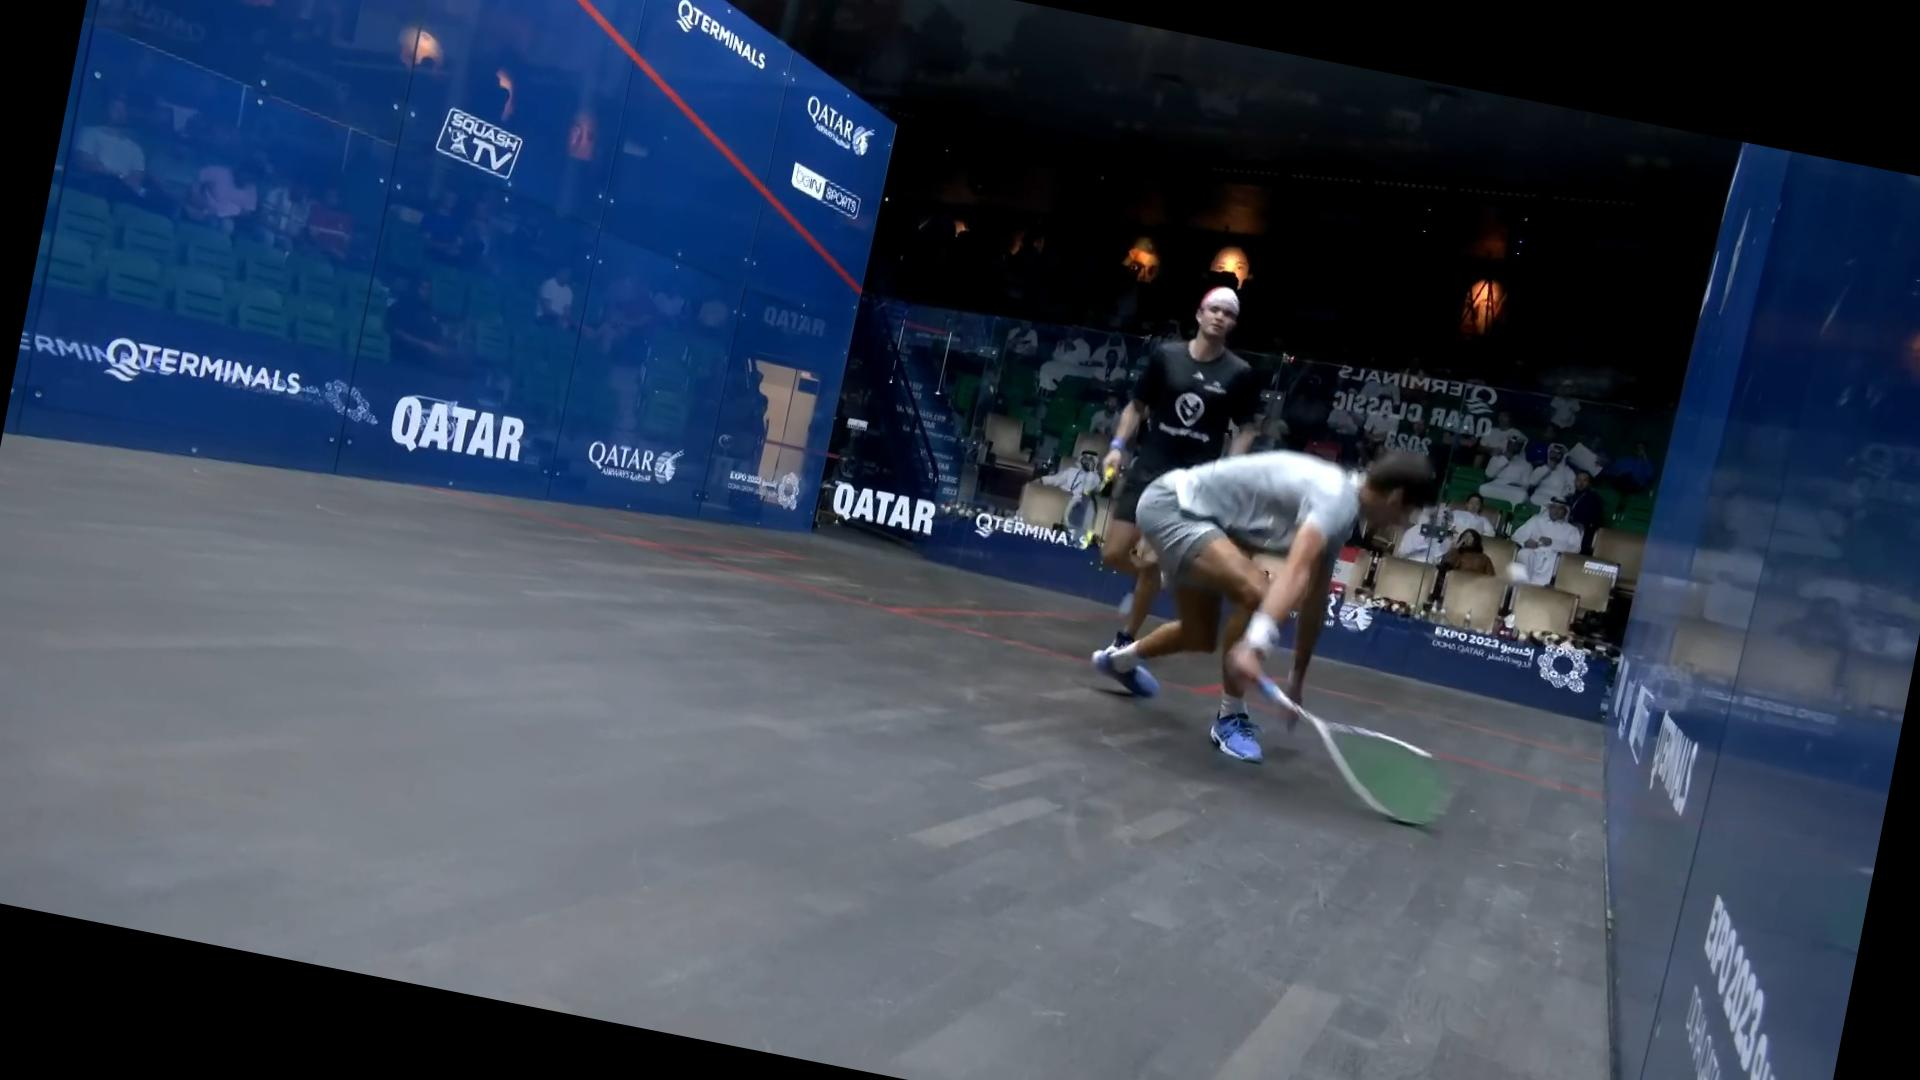Racket: (1238, 669, 1468, 840), (1058, 462, 1122, 553)
